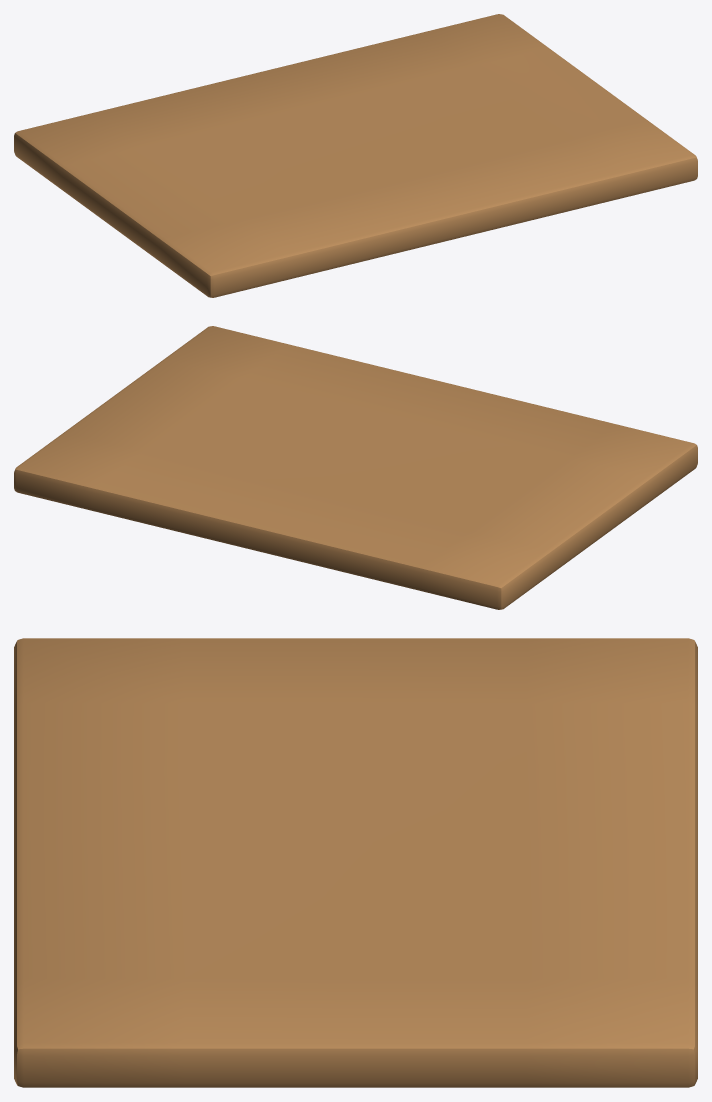
Rendered from cutting_board.glb.
3 views of the same model, one above another, from view 1: azimuth 30°, elevation 25°; view 2: azimuth 150°, elevation 25°; view 3: azimuth 270°, elevation 25° (orthographic). The views are drawn at different scales.
Parts seen in each view (by area): view 1: cutting_board; view 2: cutting_board; view 3: cutting_board.
Boxes of the visible parts, x1,y1,x2,y2 form: cutting_board: (14,14,697,297); cutting_board: (14,326,697,609); cutting_board: (14,638,697,1087).
Bounding box in the file's own units: 0.4 × 0.02 × 0.28.
